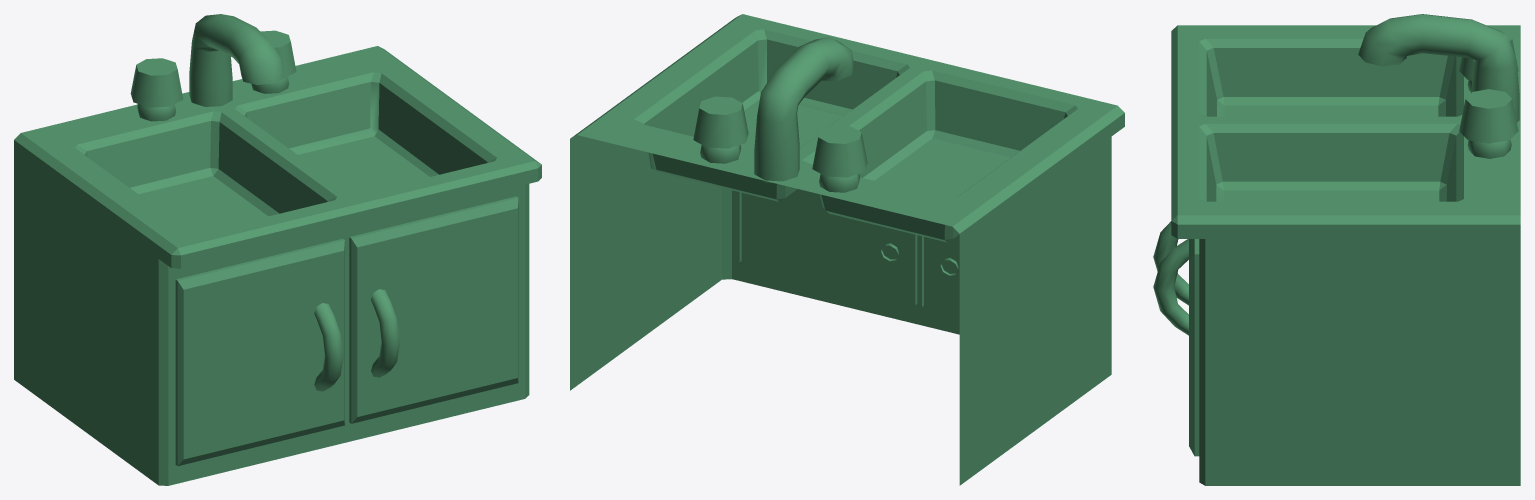
File: Dishwasher_V3.fbx
The picture shows the model from 3 angles, left to right: view 1: azimuth 30°, elevation 25°; view 2: azimuth 150°, elevation 25°; view 3: azimuth 270°, elevation 25°; orthographic projection. The views are drawn at different scales.
Parts seen in each view (by area): view 1: Dishwasher; view 2: Dishwasher; view 3: Dishwasher.
Boxes of the visible parts, x1,y1,x2,y2 form: Dishwasher: (14, 14, 541, 485); Dishwasher: (570, 14, 1124, 485); Dishwasher: (1153, 14, 1520, 485).
Bounding box in the file's own units: 175 × 154 × 138.
